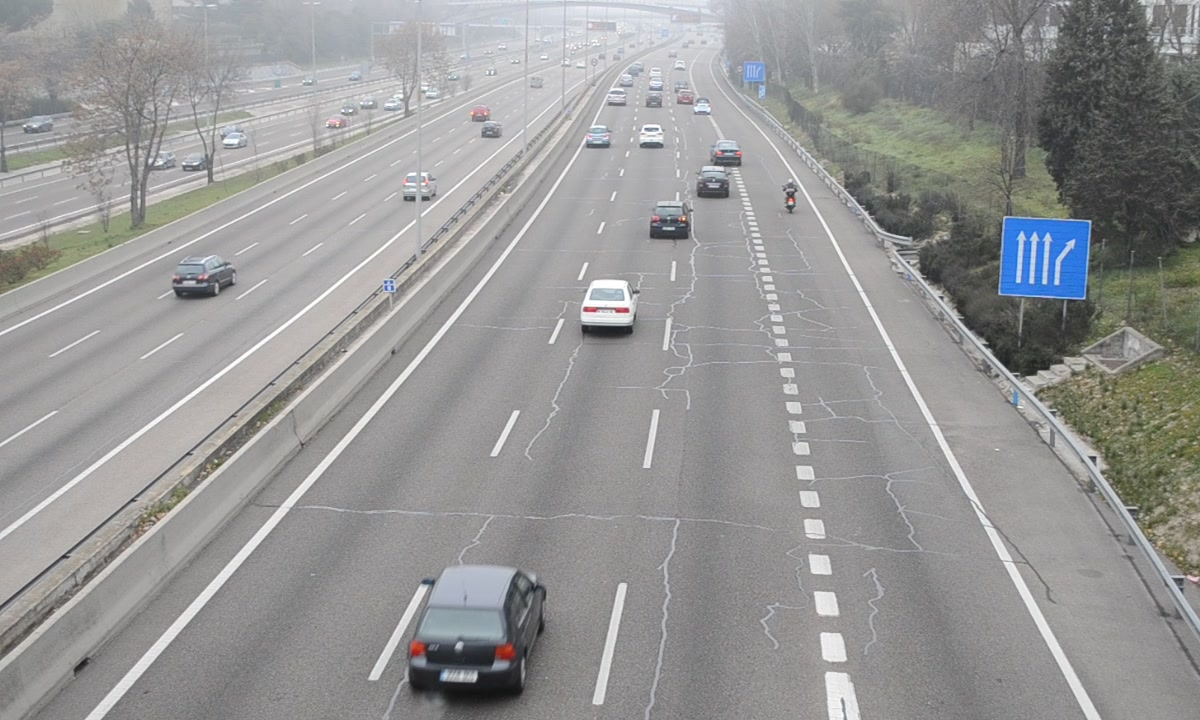car: (405, 565, 546, 697), (581, 278, 638, 329), (650, 201, 692, 240), (697, 166, 730, 198), (712, 139, 745, 165), (639, 123, 666, 147), (585, 125, 610, 148)
motorcycle: (783, 179, 801, 214)
